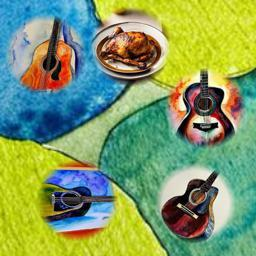something that can be eaten: (94, 21, 167, 78)
